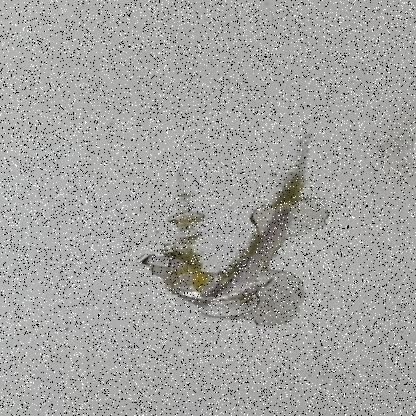Crack: (95, 123, 366, 363)
